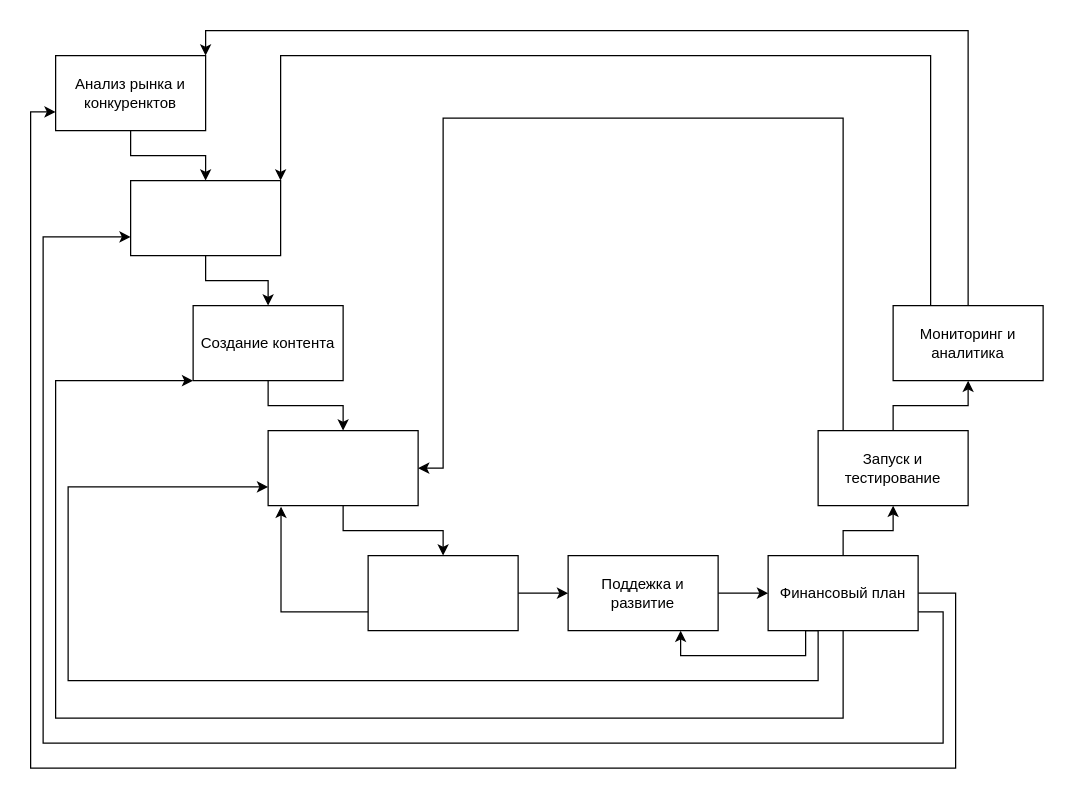
This 1065x800 diagram has some shape labels left out. The box of each missing label's shape, as (x1, y1, x2, y2) in pixels:
Продвижение и маркетинг: (367, 554, 518, 631)
Разработка: (267, 429, 418, 506)
Разработка концепции сайта: (129, 179, 281, 256)
